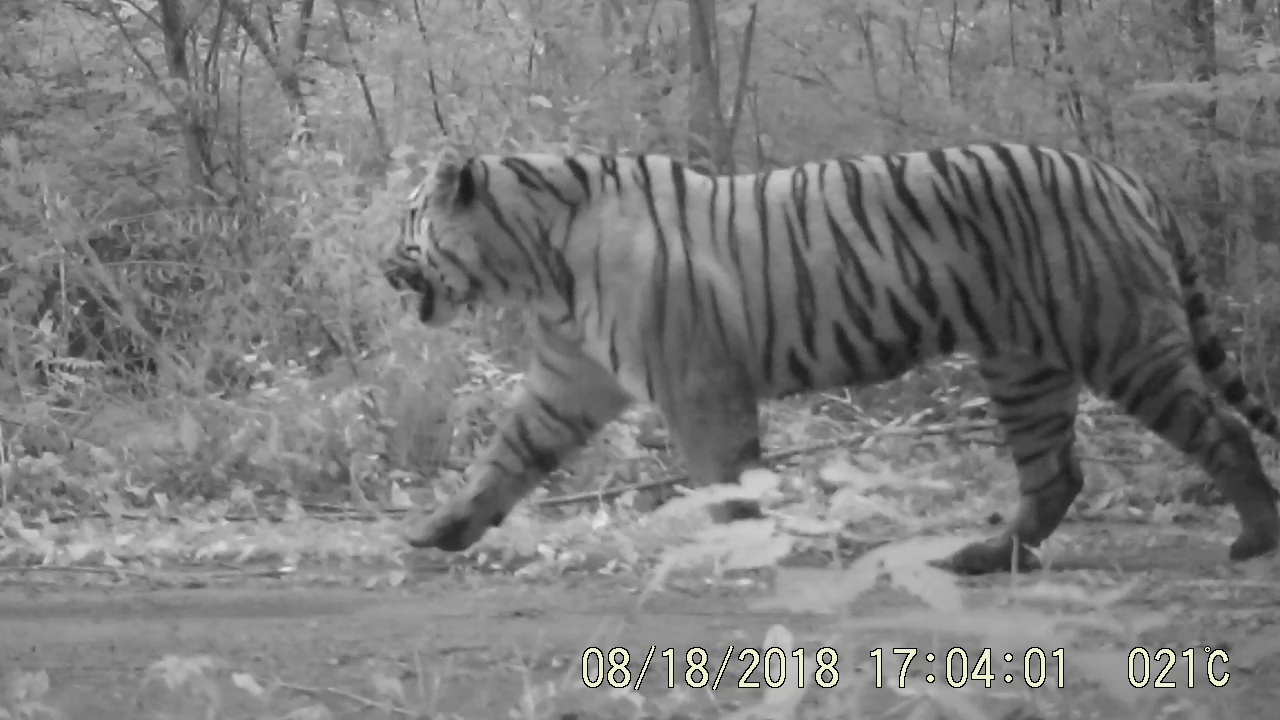Tiger: (341, 86, 1280, 600)
